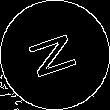N_E: (25, 28, 85, 82)
